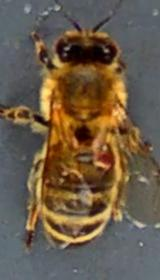varroa_mite: (86, 130, 120, 172)
